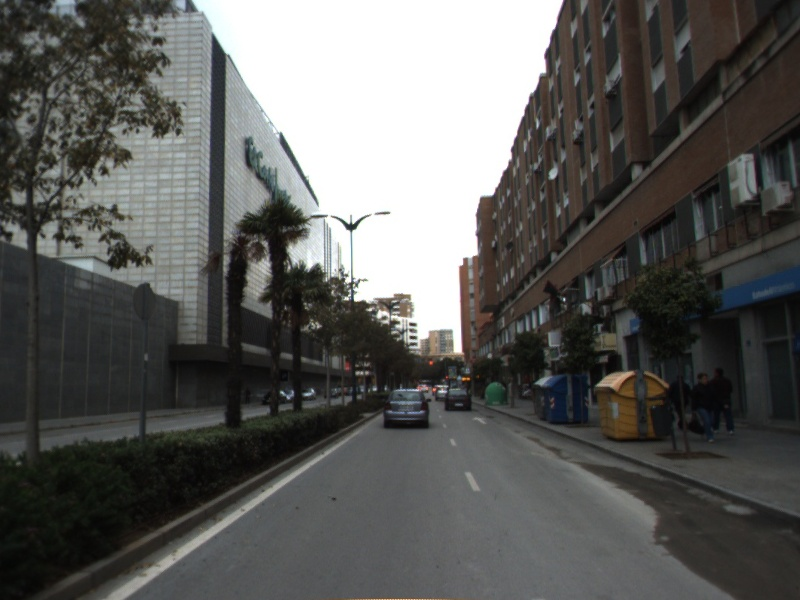STRAIGHT: (470, 414, 490, 426)
